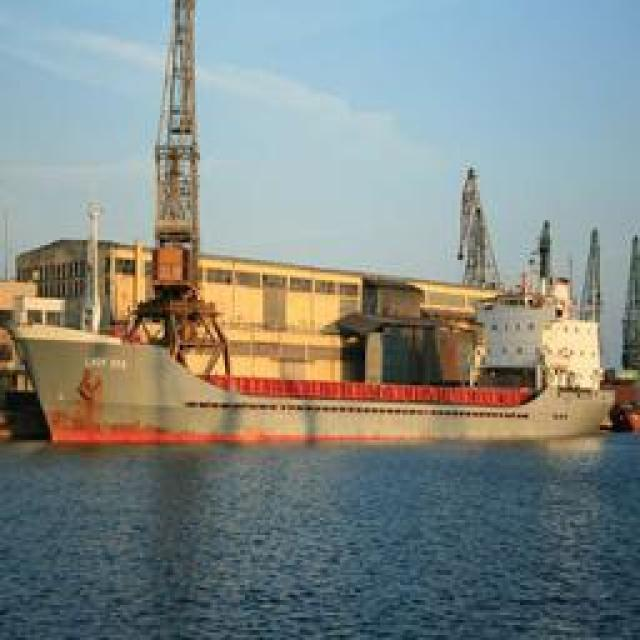CIV_Ship: (9, 205, 609, 440)
